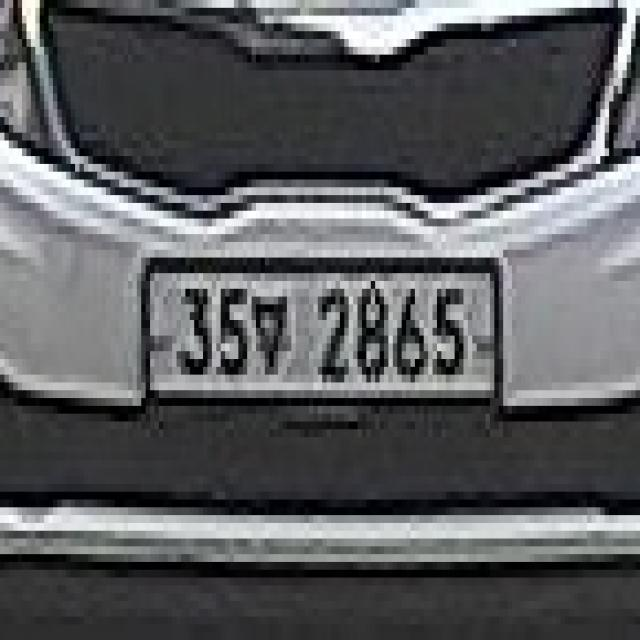2: (318, 281, 353, 382)
3: (172, 281, 212, 375)
5: (428, 281, 468, 382), (216, 288, 252, 374)
6: (393, 281, 428, 382)
8: (353, 281, 393, 382)
bu: (247, 289, 291, 382)
license_plate: (141, 258, 508, 422)
